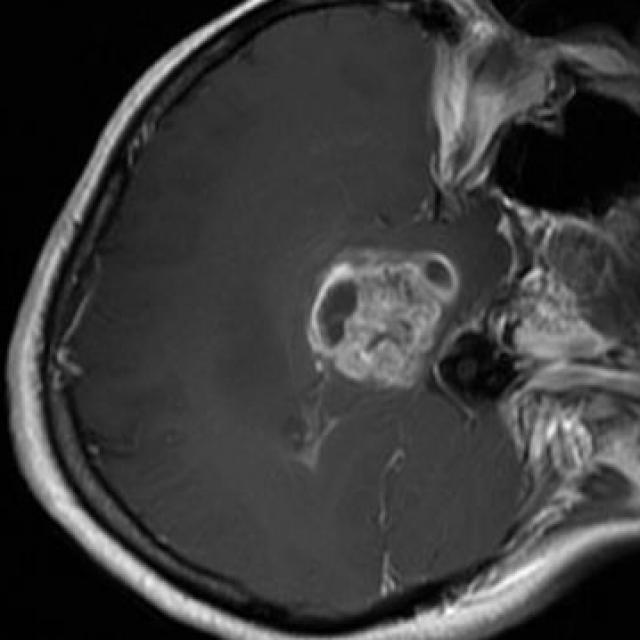glioma: (307, 248, 458, 390)
